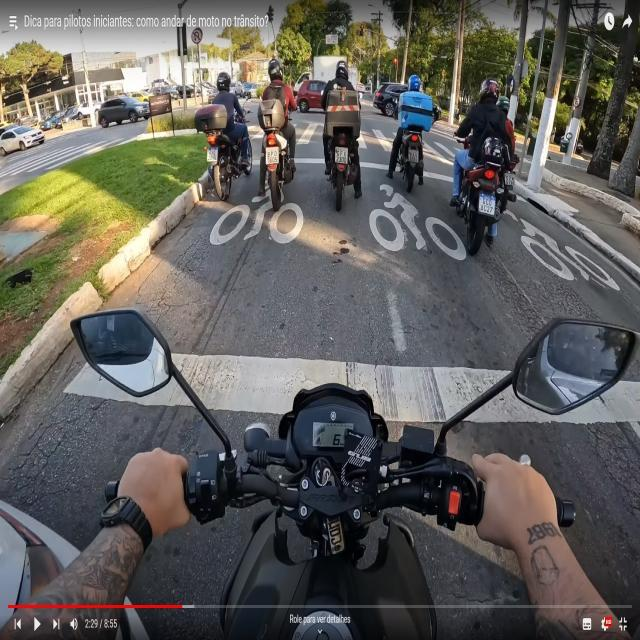placa_moto: (479, 192, 494, 216), (266, 148, 279, 164), (335, 147, 347, 164), (207, 146, 218, 162), (505, 172, 516, 187), (409, 148, 419, 163)
